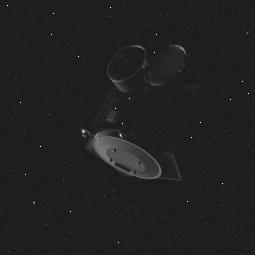cheops: (93, 42, 199, 190)
